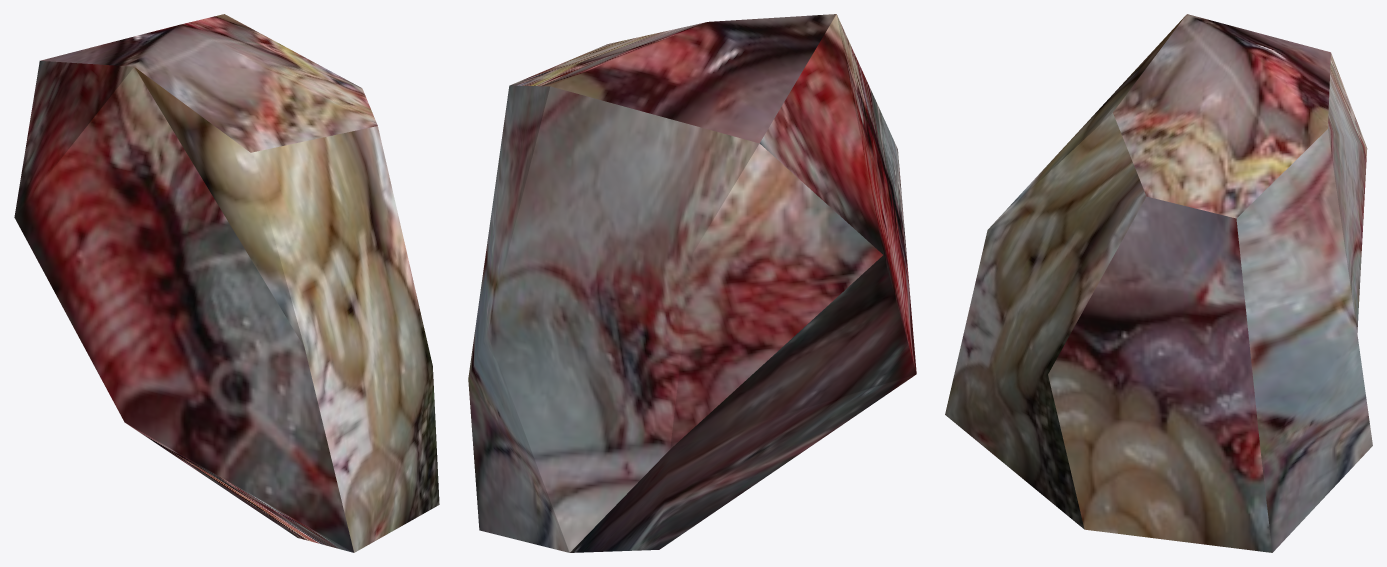
The model's file is thingy_3.fbx.
3 views of the same model, side by side, from view 1: azimuth 30°, elevation 25°; view 2: azimuth 150°, elevation 25°; view 3: azimuth 270°, elevation 25° (orthographic). The views are drawn at different scales.
Visible parts, largest first — view 1: pCylinder5; view 2: pCylinder5; view 3: pCylinder5.
Boxes of the visible parts, x1,y1,x2,y2 form: pCylinder5: [14, 14, 439, 552]; pCylinder5: [468, 14, 916, 552]; pCylinder5: [945, 14, 1372, 552].
Size of the model in its own units: 1.76 by 2.38 by 2.04.
